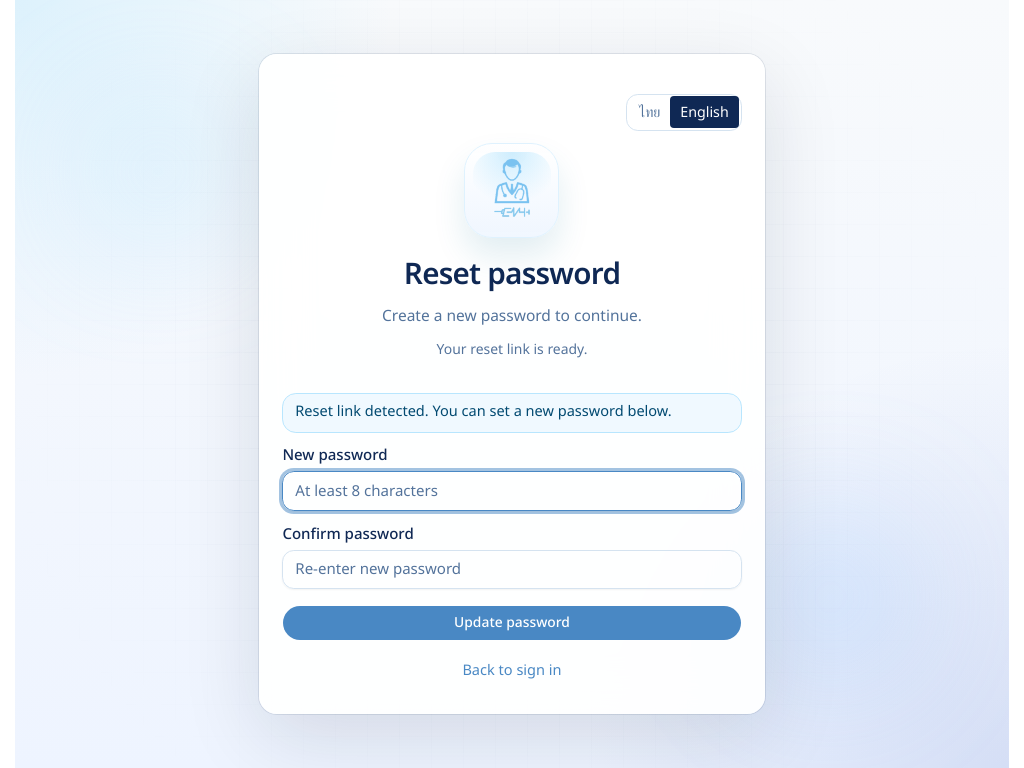
Test case: ResetPasswordClientPage › shows a success state before redirecting back to sign in
The image size is (1024, 768).
Check: the text "Reset link detected. You can set a new password below." is shown, box [282,393,742,433]
Type "NewPass123!" into the password field labelled "New password". click: (512, 491)
box: [282,471,742,511]
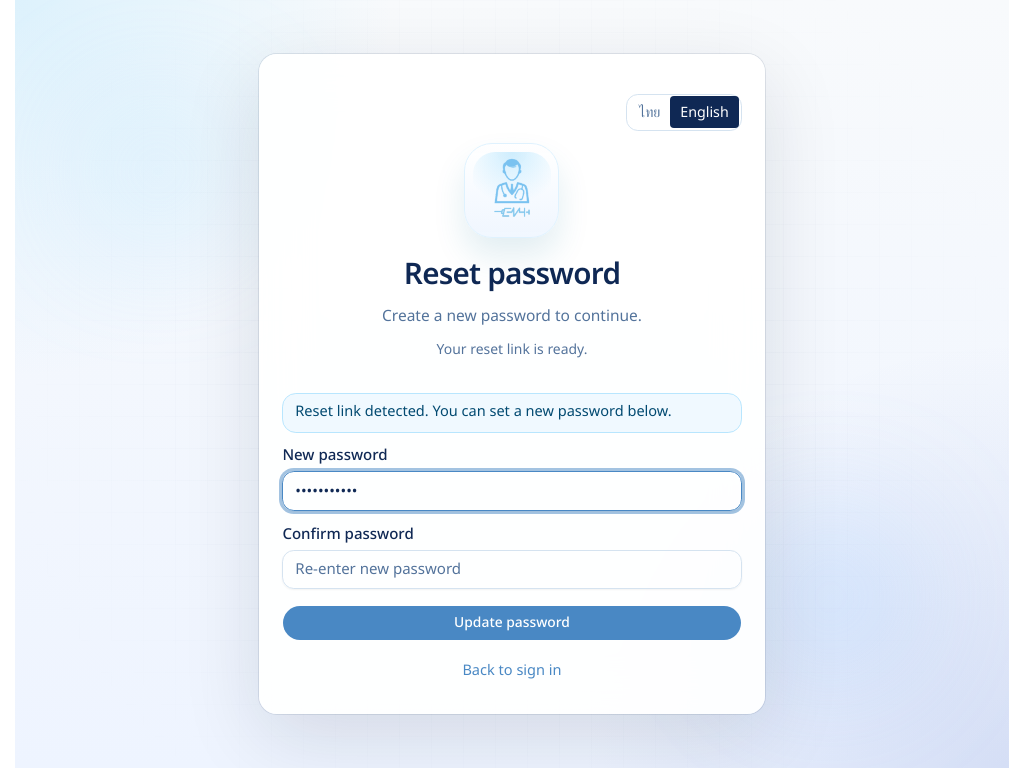
Type "NewPass123!" into the password field labelled "Confirm password". click: (512, 570)
box: [282,550,742,589]
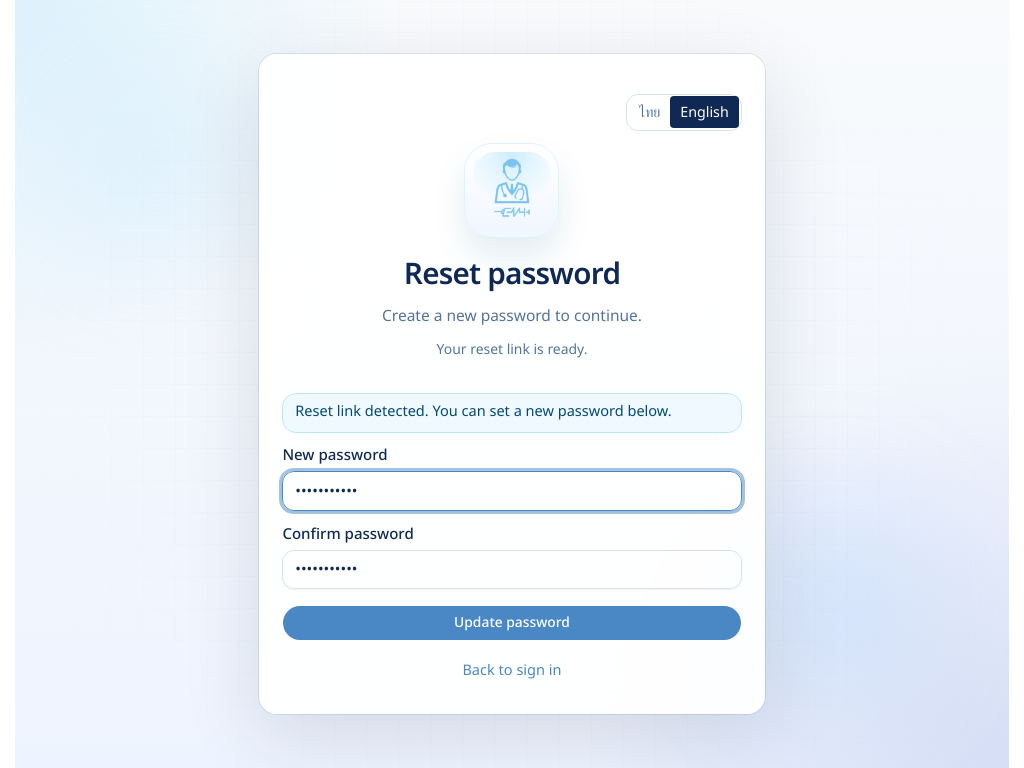
Click the button "Update password". click: (512, 623)
box: [282,605,742,641]
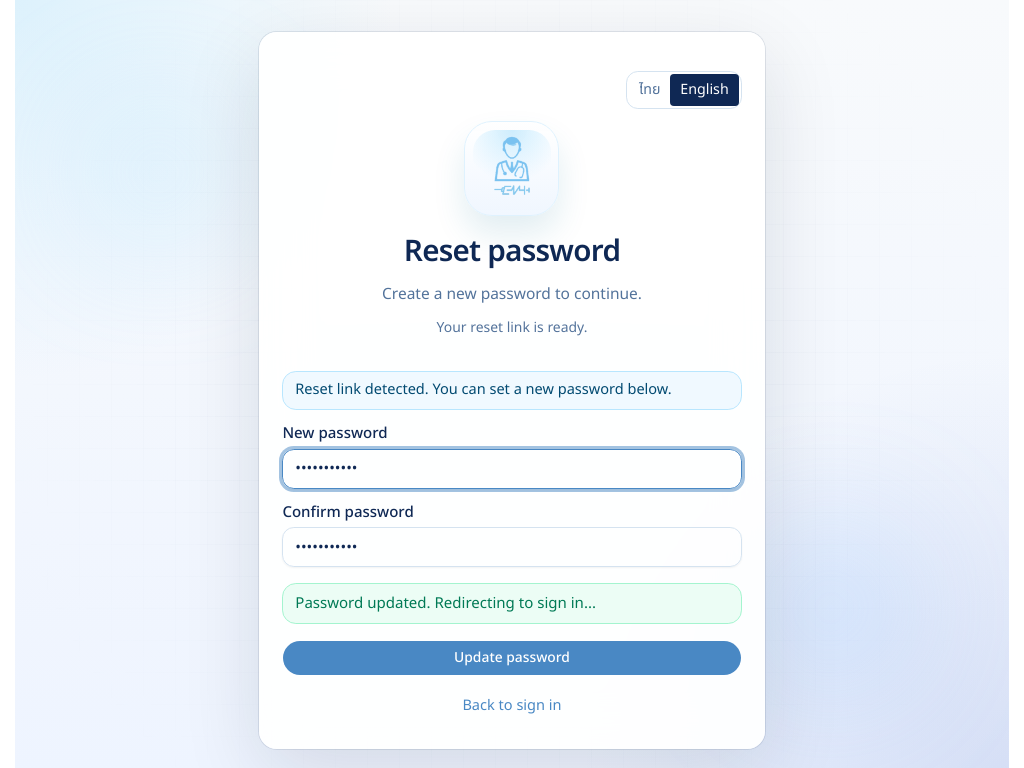
Check: the text "Password updated. Redirecting to sign in..." is shown, box [282,583,742,624]
